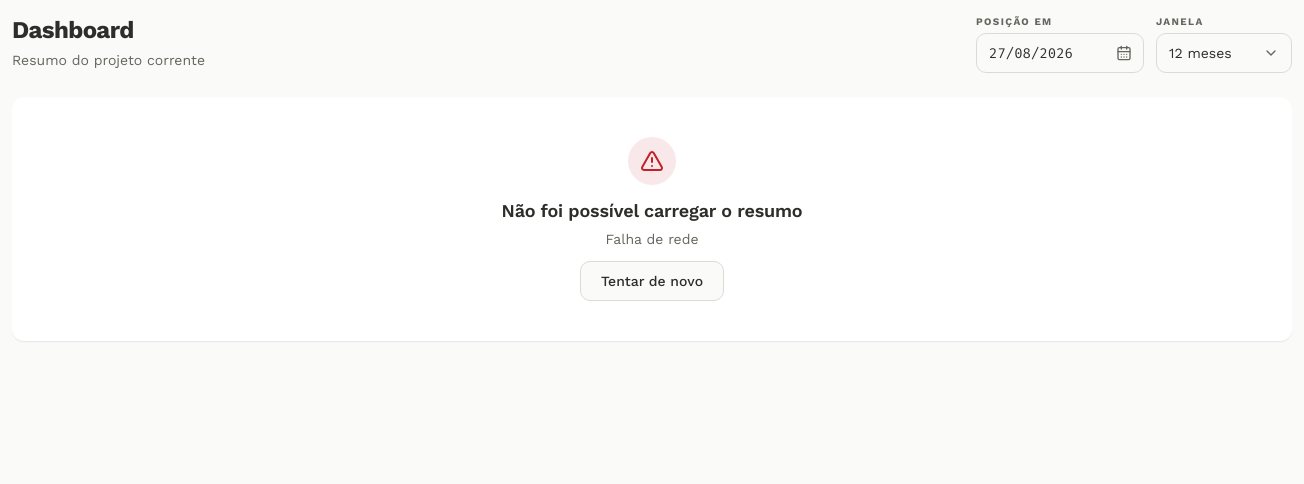
Test: NEW-002 — o painel da tela inicial › erro de rede mostra o estado de erro e permite tentar de novo
expect the message shows "Não foi possível carregar o resumo": met, box [502,200,802,221]
Click the button named "tentar de novo" at coordinates (652, 281), box [580,261,724,301]
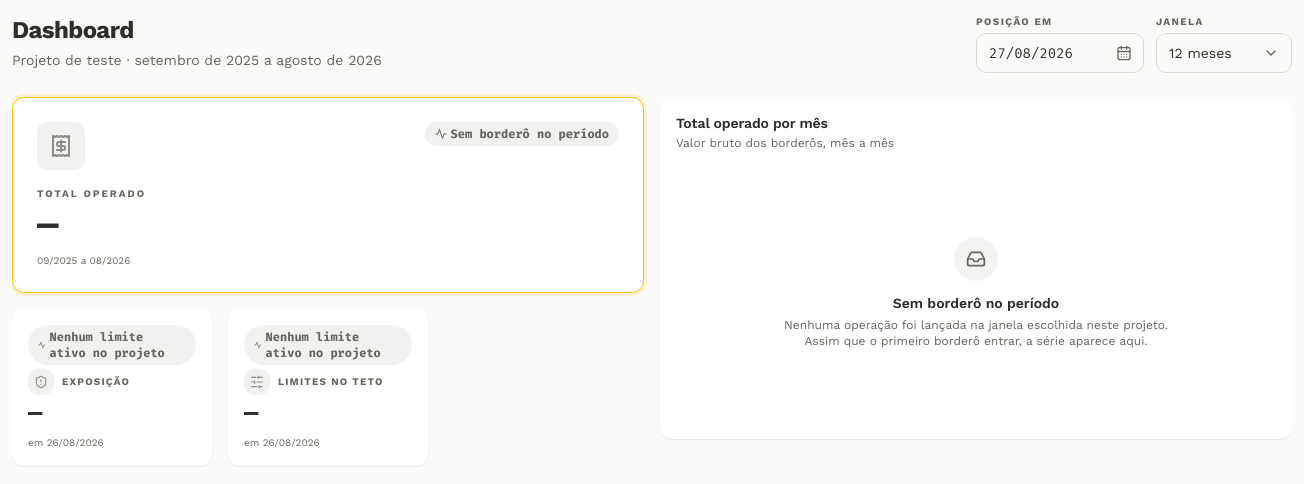
expect the heading "Total operado" is shown: met, box [37,188,146,199]
